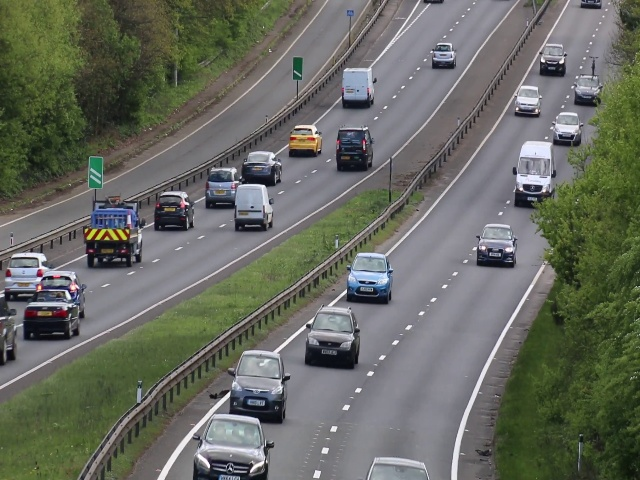car: (191, 414, 273, 480), (224, 347, 290, 424), (83, 201, 145, 267), (303, 303, 361, 371), (23, 294, 83, 342), (344, 249, 393, 307), (515, 139, 555, 209), (229, 184, 276, 233), (335, 124, 373, 174), (3, 250, 47, 292), (479, 222, 517, 269), (153, 188, 195, 230), (340, 65, 376, 110), (241, 148, 283, 186), (204, 167, 242, 206), (365, 459, 431, 480), (33, 271, 85, 296), (1, 296, 21, 360), (537, 40, 568, 79), (288, 122, 323, 155), (550, 107, 581, 144), (513, 81, 542, 119), (430, 38, 458, 71), (573, 74, 599, 102)
